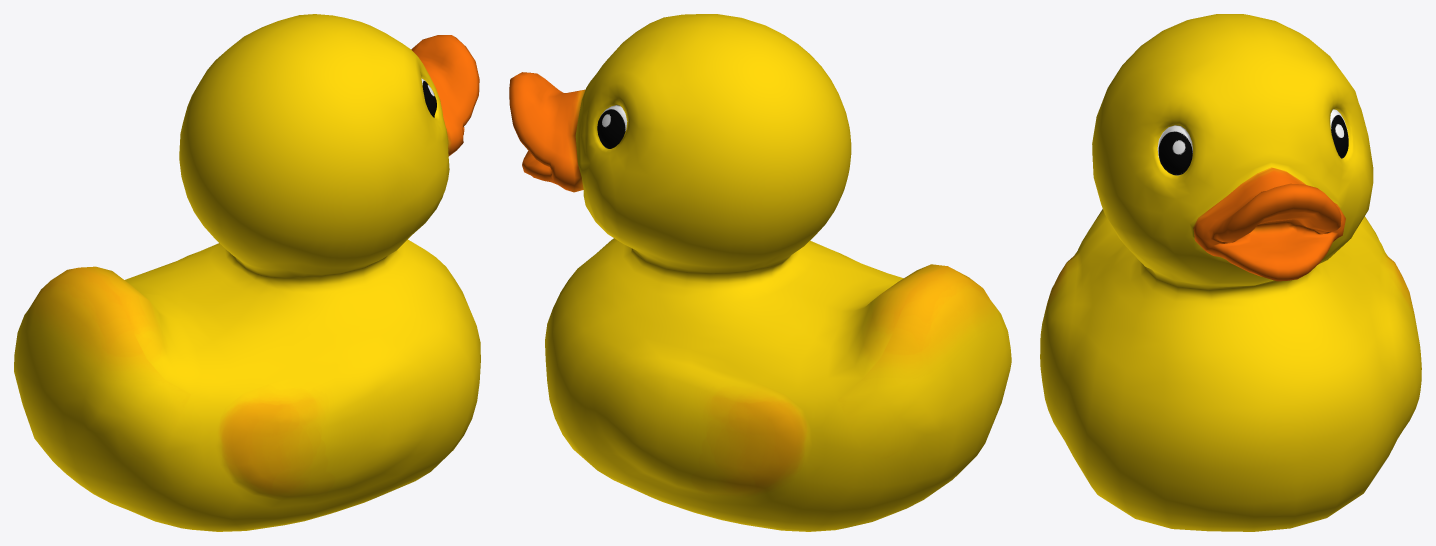
File: Duck.dae
3 views of the same model, side by side, from view 1: azimuth 30°, elevation 25°; view 2: azimuth 150°, elevation 25°; view 3: azimuth 270°, elevation 25° (orthographic). The views are drawn at different scales.
Visible parts, largest first — view 1: SketchUp; view 2: SketchUp; view 3: SketchUp.
Boxes of the visible parts, <box> form: SketchUp: <box>14,14,480,531</box>; SketchUp: <box>509,14,1011,531</box>; SketchUp: <box>1040,14,1421,531</box>.
Bounding box in the file's own units: 65.15 × 45.38 × 60.65.
